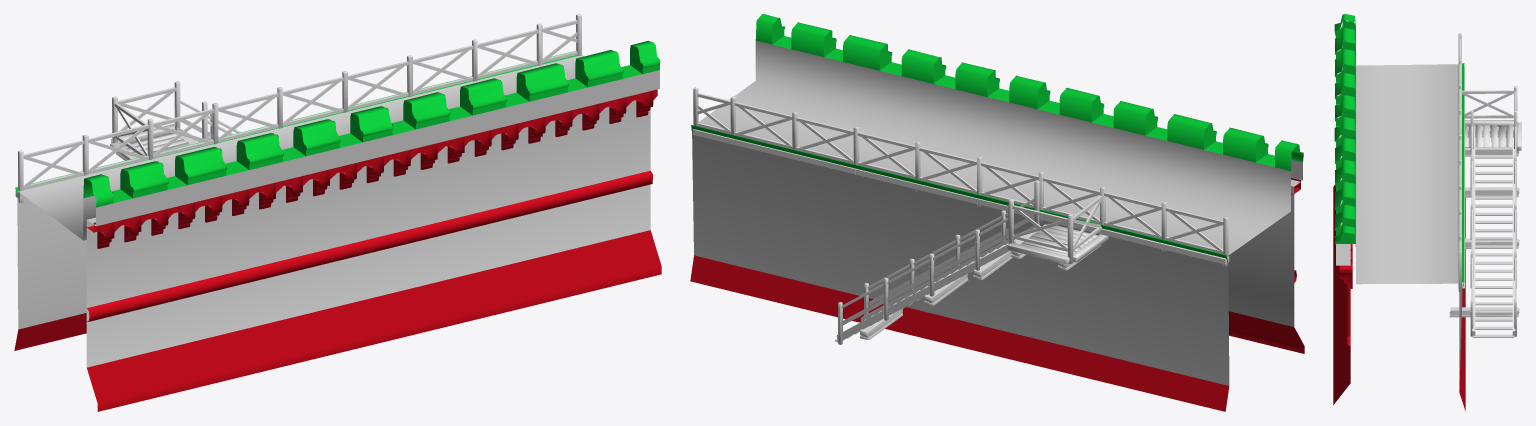
The model's file is Wall_2 (1).fbx.
The picture shows the model from 3 angles, left to right: view 1: azimuth 30°, elevation 25°; view 2: azimuth 150°, elevation 25°; view 3: azimuth 270°, elevation 25°; orthographic projection. The views are drawn at different scales.
Parts seen in each view (by area): view 1: Group_4.015, Group_3.012, Group_3.013, Group_3.011; view 2: Group_4.015, Group_3.012, Group_3.013, Group_3.011; view 3: Group_4.015, Group_3.013, Group_3.012.
Boxes of the visible parts, x1,y1,x2,y2 form: Group_4.015: (14, 41, 661, 411); Group_3.012: (15, 14, 581, 202); Group_3.013: (110, 81, 240, 160); Group_3.011: (153, 108, 213, 158); Group_4.015: (690, 14, 1304, 411); Group_3.012: (692, 87, 1229, 266); Group_3.013: (835, 180, 1108, 344); Group_3.011: (1040, 177, 1102, 234); Group_4.015: (1333, 14, 1465, 410); Group_3.013: (1449, 86, 1521, 337); Group_3.012: (1458, 33, 1464, 291).
Bounding box in the file's own units: 1800 × 690 × 655.
